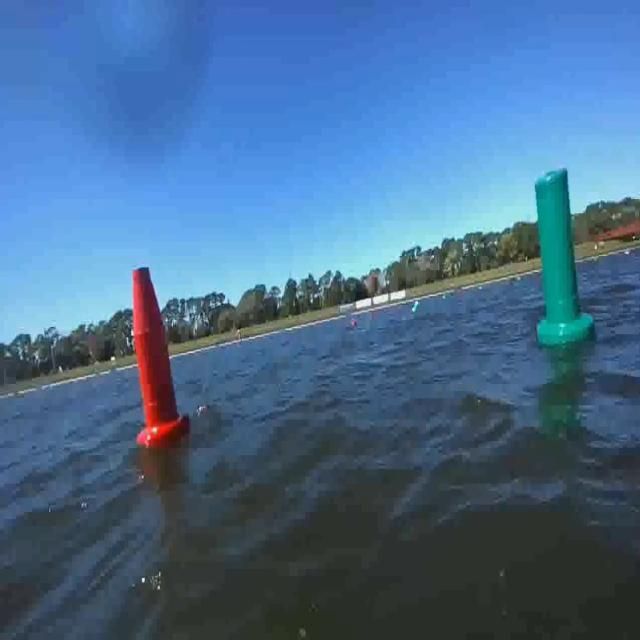green-column-buoy: (534, 165, 594, 345)
red-column-buoy: (132, 263, 190, 449)
